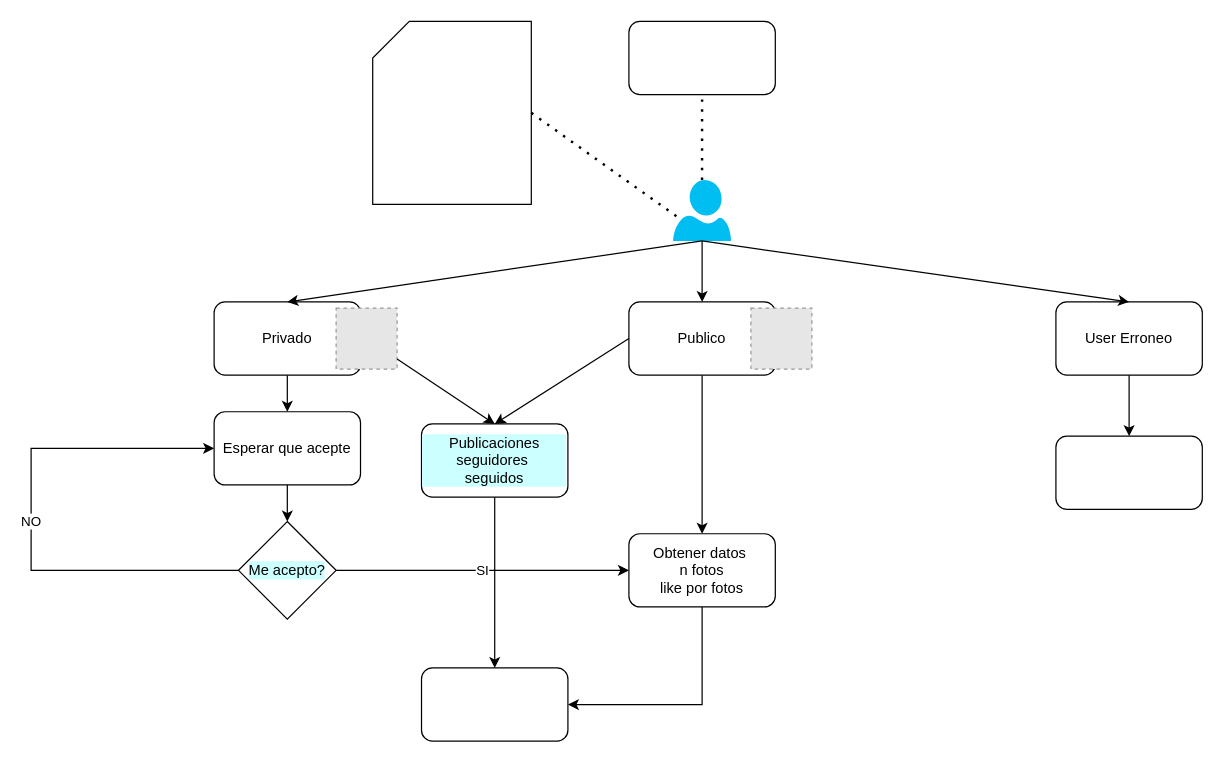
Some shapes in this 1224 by 763 pixel diagram are drawn without their labels. Grey dashed boxes stand in for pictures. Each missing label, with the centre of its shape:
"Archivo de configuración: Seguir usuarios privados? Seguir usuarios públicos?" goes at point (451, 112).
"Dejar en log Avisar que usuario ingresado es erroneo" goes at point (1128, 472).
"Fuente de datos de usuario: excel? txt?" goes at point (701, 57).
"Guardar datos en BBDD" goes at point (494, 704).
